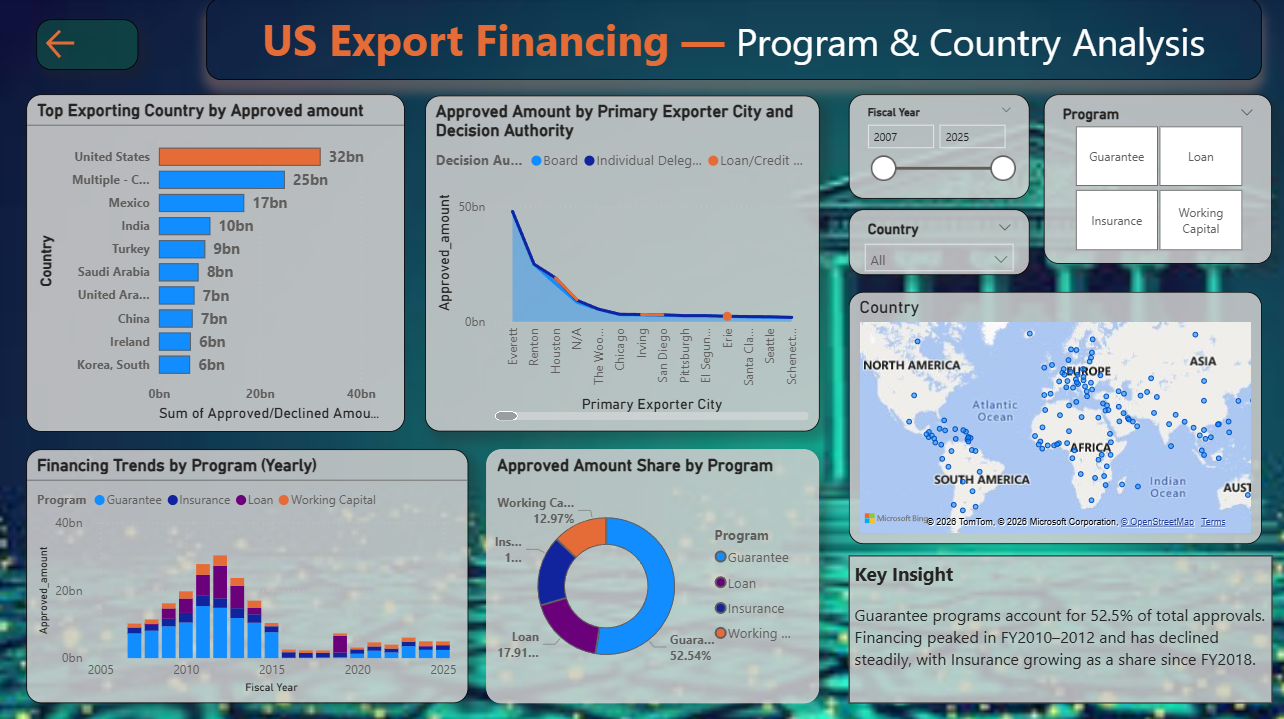

Layout of this report page (visuals, bound fields, positions):
{"tool":"powerbi","page":{"name":"Page 2","canvas":[1280,720],"ordinal":1},"visuals":[{"type":"clusteredBarChart","title":"Top Exporting Country by Approved amount","fields":{"Category":["Data Gov+-+FY25+Q4.Country"],"Y":["Sum(Data Gov+-+FY25+Q4.Approved/Declined Amount)"]},"box":[25.7,95.7,377.1,335.7],"z":0},{"type":"stackedAreaChart","title":"Approved Amount by Primary Exporter City and Decision Authority","fields":{"Category":["Data Gov+-+FY25+Q4.Primary Exporter City"],"Y":["Data Gov+-+FY25+Q4.Approved_amount"],"Series":["Data Gov+-+FY25+Q4.Decision Authority"]},"box":[422.9,97.1,392.9,334.3],"z":1000},{"type":"columnChart","title":"Financing Trends by Program (Yearly)","fields":{"Category":["Data Gov+-+FY25+Q4.Fiscal Year"],"Series":["Data Gov+-+FY25+Q4.Program"],"Y":["Data Gov+-+FY25+Q4.Approved_amount"]},"box":[25.7,448.6,440,252.9],"z":2000},{"type":"donutChart","title":"Approved Amount Share by Program","fields":{"Category":["Data Gov+-+FY25+Q4.Program"],"Y":["Data Gov+-+FY25+Q4.Approved_amount"]},"box":[484.3,448.6,331.4,252.9],"z":3000},{"type":"slicer","fields":{"Values":["Data Gov+-+FY25+Q4.Fiscal Year"]},"box":[844.3,95.7,180,104.3],"z":4000},{"type":"slicer","fields":{"Values":["Data Gov+-+FY25+Q4.Country"]},"box":[844.3,210,180,65.7],"z":5000},{"type":"slicer","fields":{"Values":["Data Gov+-+FY25+Q4.Program"]},"box":[1038.6,95.7,227.1,168.6],"z":6000},{"type":"textbox","box":[844.3,554.3,421.4,147.1],"z":7000},{"type":"map","fields":{"Category":["Data Gov+-+FY25+Q4.Country"]},"box":[844.3,292.9,411.4,251.4],"z":8000},{"type":"textbox","box":[205.7,0,1050,81.4],"z":9000},{"type":"actionButton","box":[35.7,21.4,101.4,50],"z":10000}]}

Visuals, with their boxes in screenshot pixels (x1, y1, x2, y2), scaled from the page's 1280x720 canvas onto the 1284x719 screenshot:
"Top Exporting Country by Approved amount" clusteredBarChart: Rect(26, 96, 404, 431)
"Approved Amount by Primary Exporter City and Decision Authority" stackedAreaChart: Rect(424, 97, 818, 431)
"Financing Trends by Program (Yearly)" columnChart: Rect(26, 448, 467, 701)
"Approved Amount Share by Program" donutChart: Rect(486, 448, 818, 701)
slicer - Data Gov+-+FY25+Q4.Fiscal Year: Rect(847, 96, 1028, 200)
slicer - Data Gov+-+FY25+Q4.Country: Rect(847, 210, 1028, 275)
slicer - Data Gov+-+FY25+Q4.Program: Rect(1042, 96, 1270, 264)
textbox: Rect(847, 554, 1270, 700)
map - Data Gov+-+FY25+Q4.Country: Rect(847, 292, 1260, 544)
textbox: Rect(206, 0, 1260, 81)
actionButton: Rect(36, 21, 138, 71)
